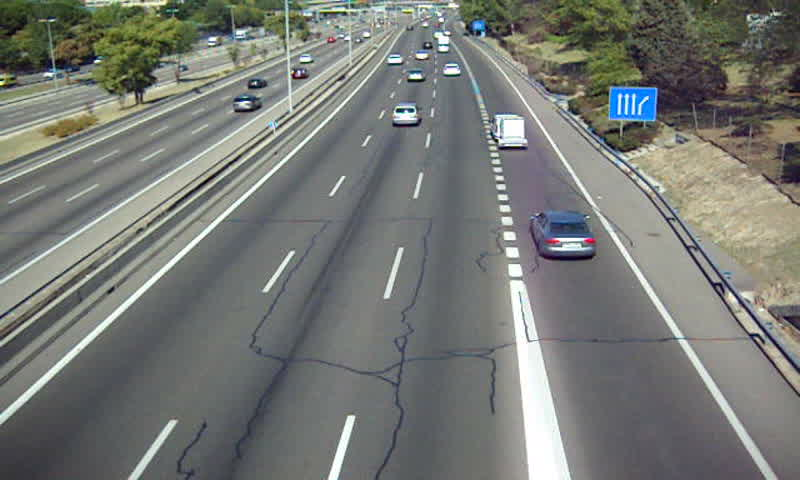car: (530, 210, 596, 259), (392, 102, 421, 126), (406, 68, 428, 82), (442, 63, 462, 78), (386, 54, 404, 67)
van: (491, 114, 518, 140)
